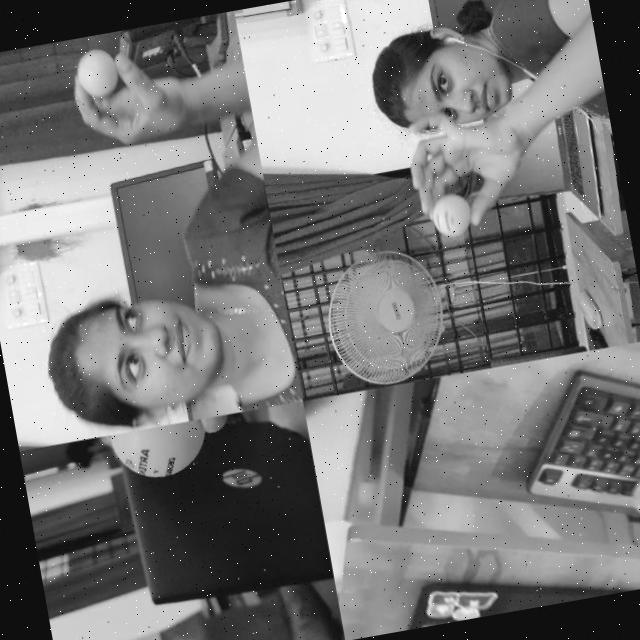ping-pong-ball: (108, 418, 214, 486), (72, 44, 120, 100), (429, 191, 472, 237), (630, 476, 640, 515)
